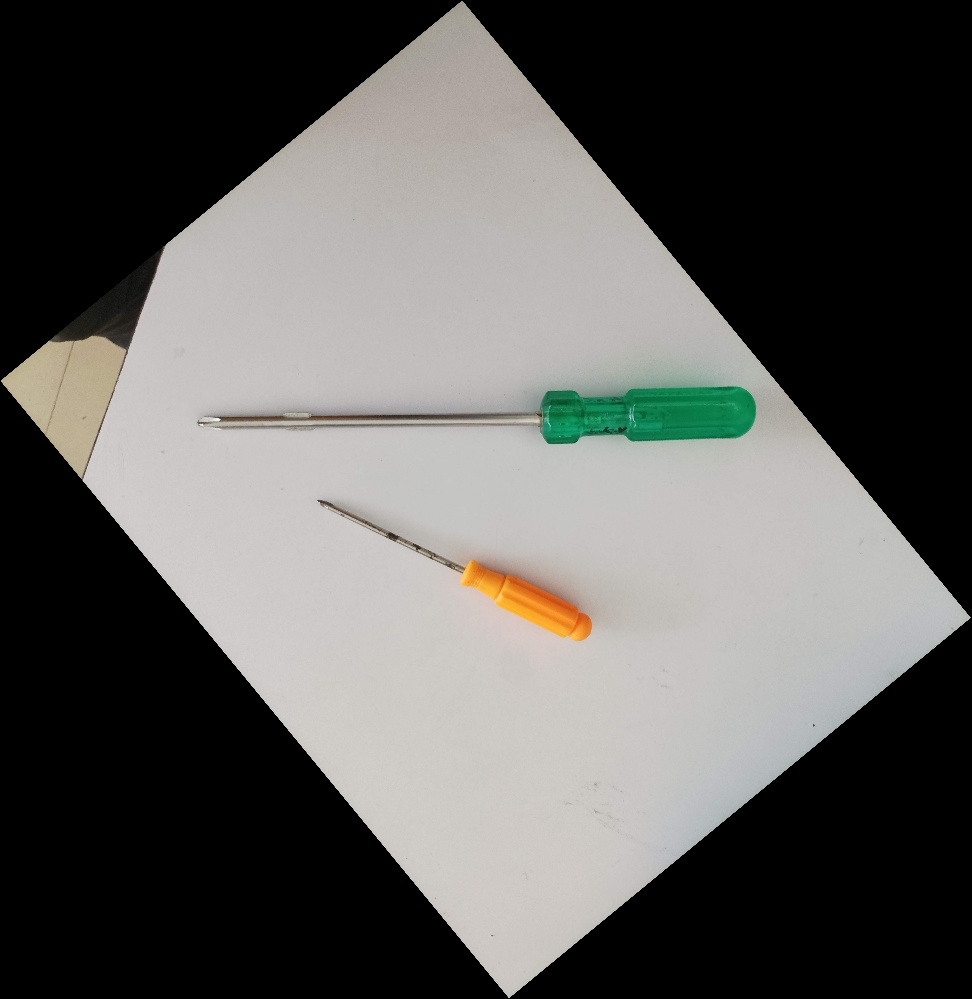screwdriver: (313, 494, 595, 644), (194, 381, 759, 446)
